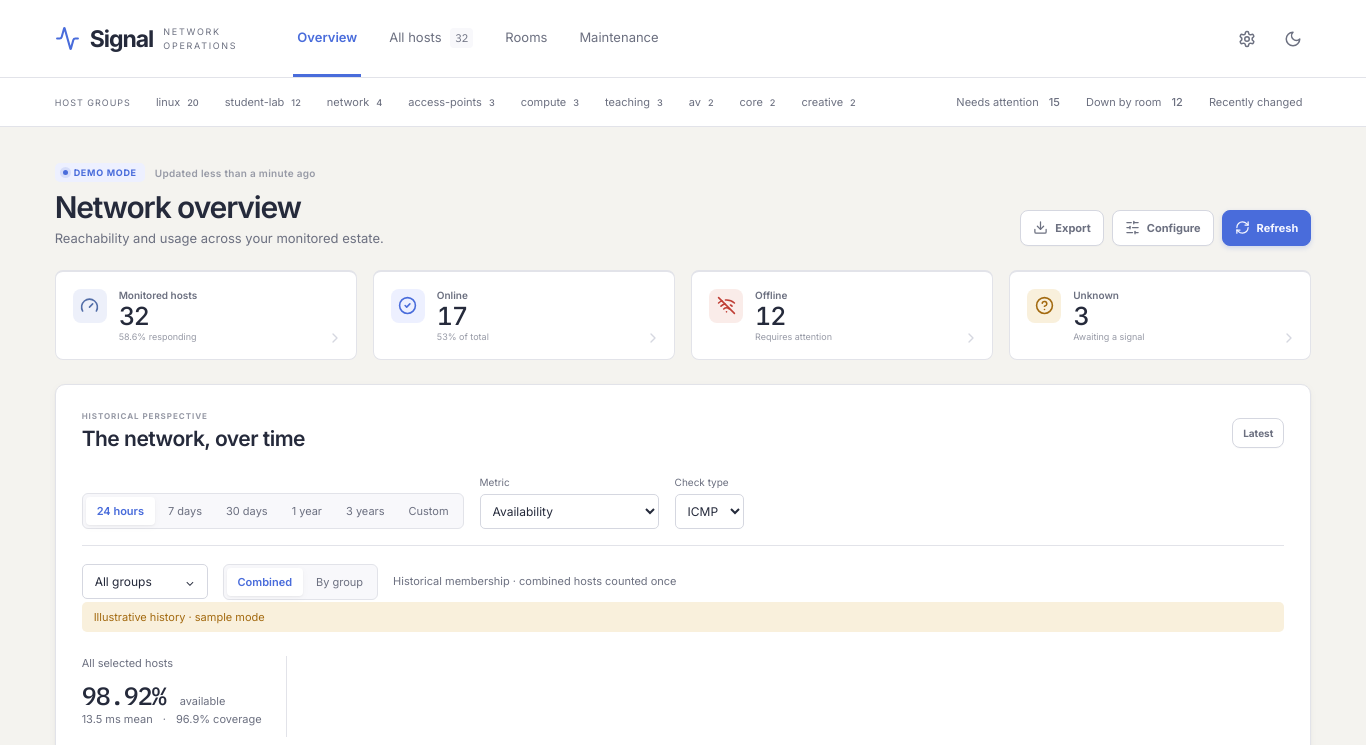
Test: network overview › detects host groups and scopes the dashboard to a selected group
Click the button with aria-label "Show network hosts, 4 total" at point(354, 102), box [318,88,391,116]
(page scrolled)
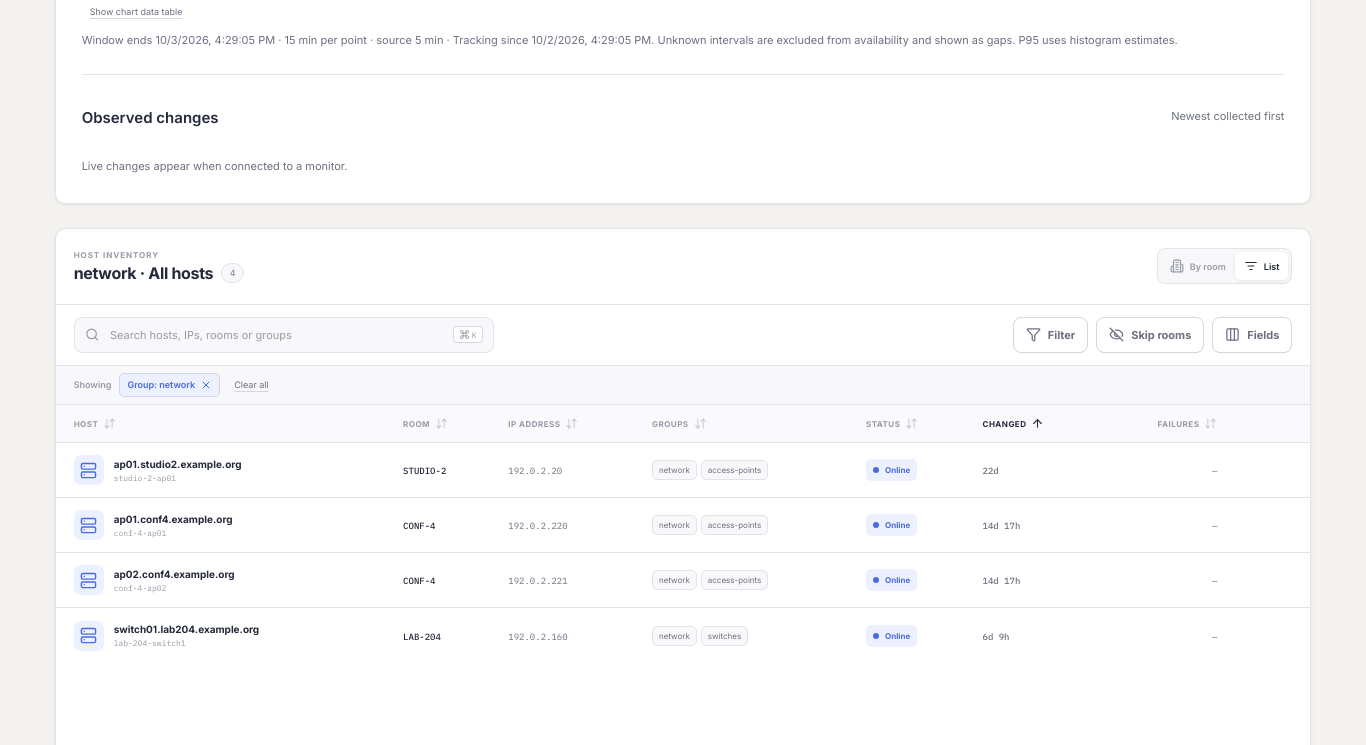
Expected: the heading "network · All hosts" is shown, [74,263,213,283]
Expected: the text "switch01.lab204.example.org" is shown, [114,623,259,635]
Expected: the text "ap01.studio2.example.org" is shown, [114,458,241,470]
